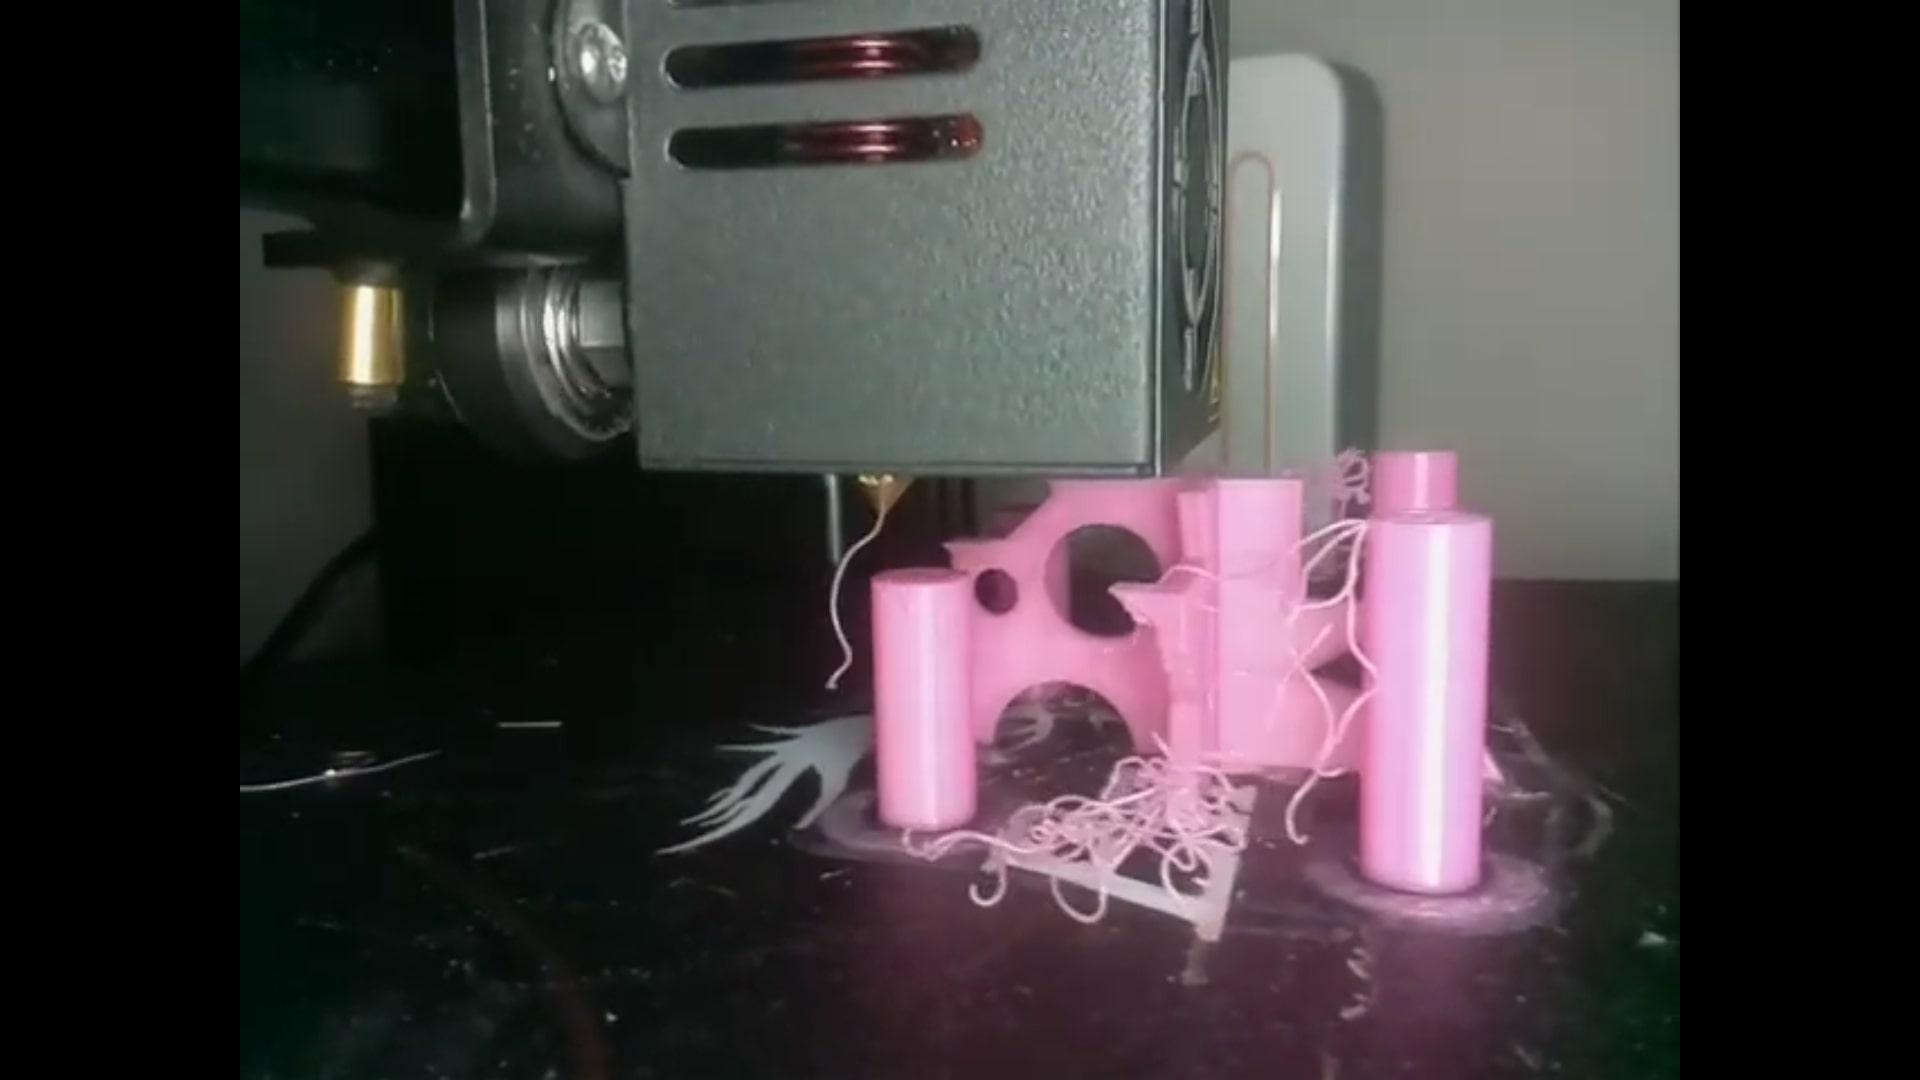Printing-Artifact: (956, 731, 1232, 914)
